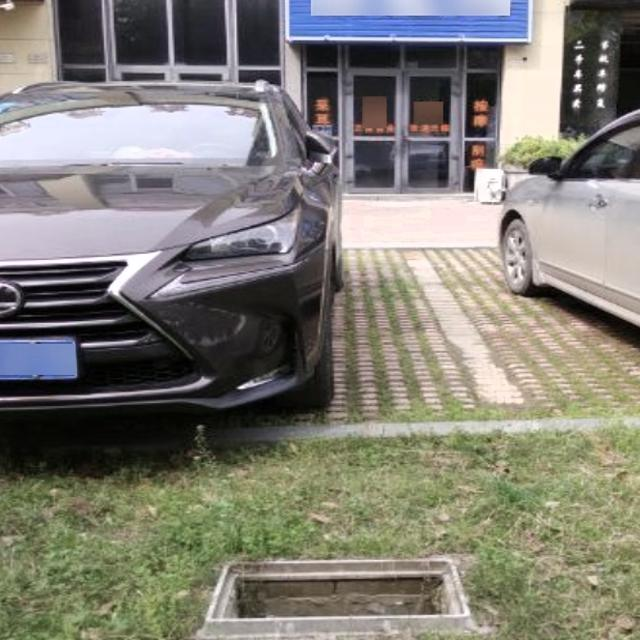lose: (205, 545, 475, 630)
